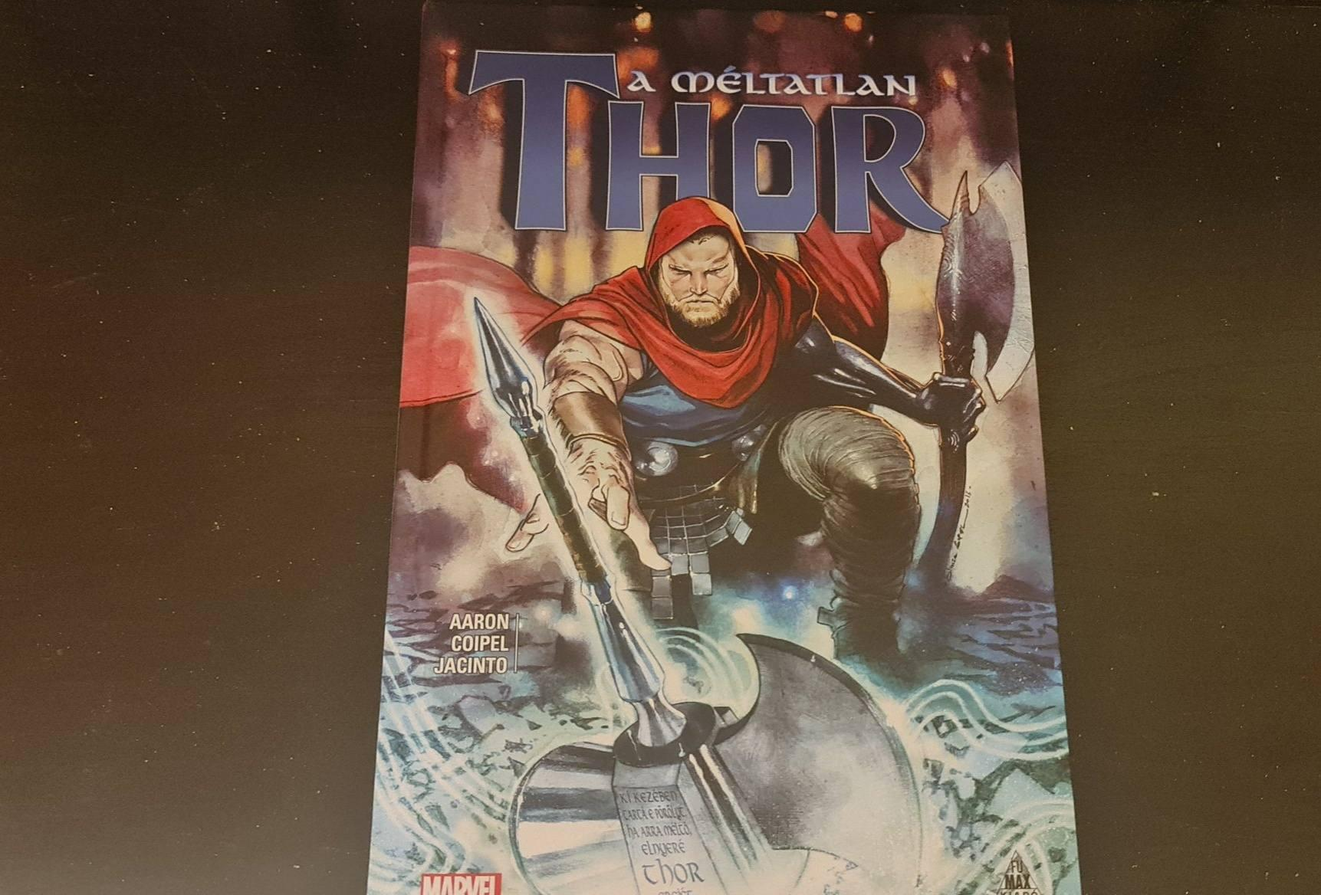comic: (370, 4, 1079, 894)
